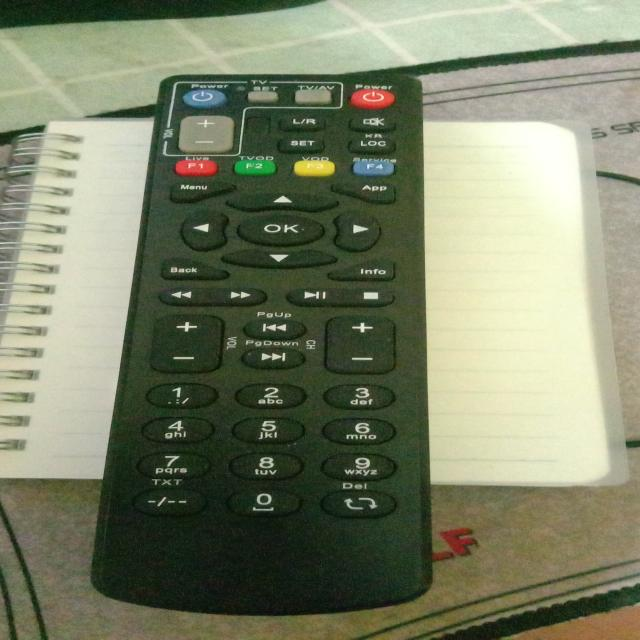remote: (85, 68, 449, 625)
